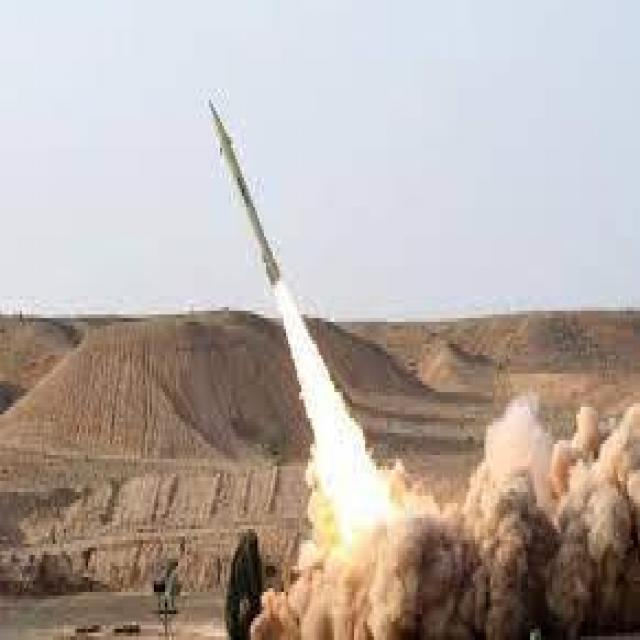rocket: (202, 89, 332, 422)
